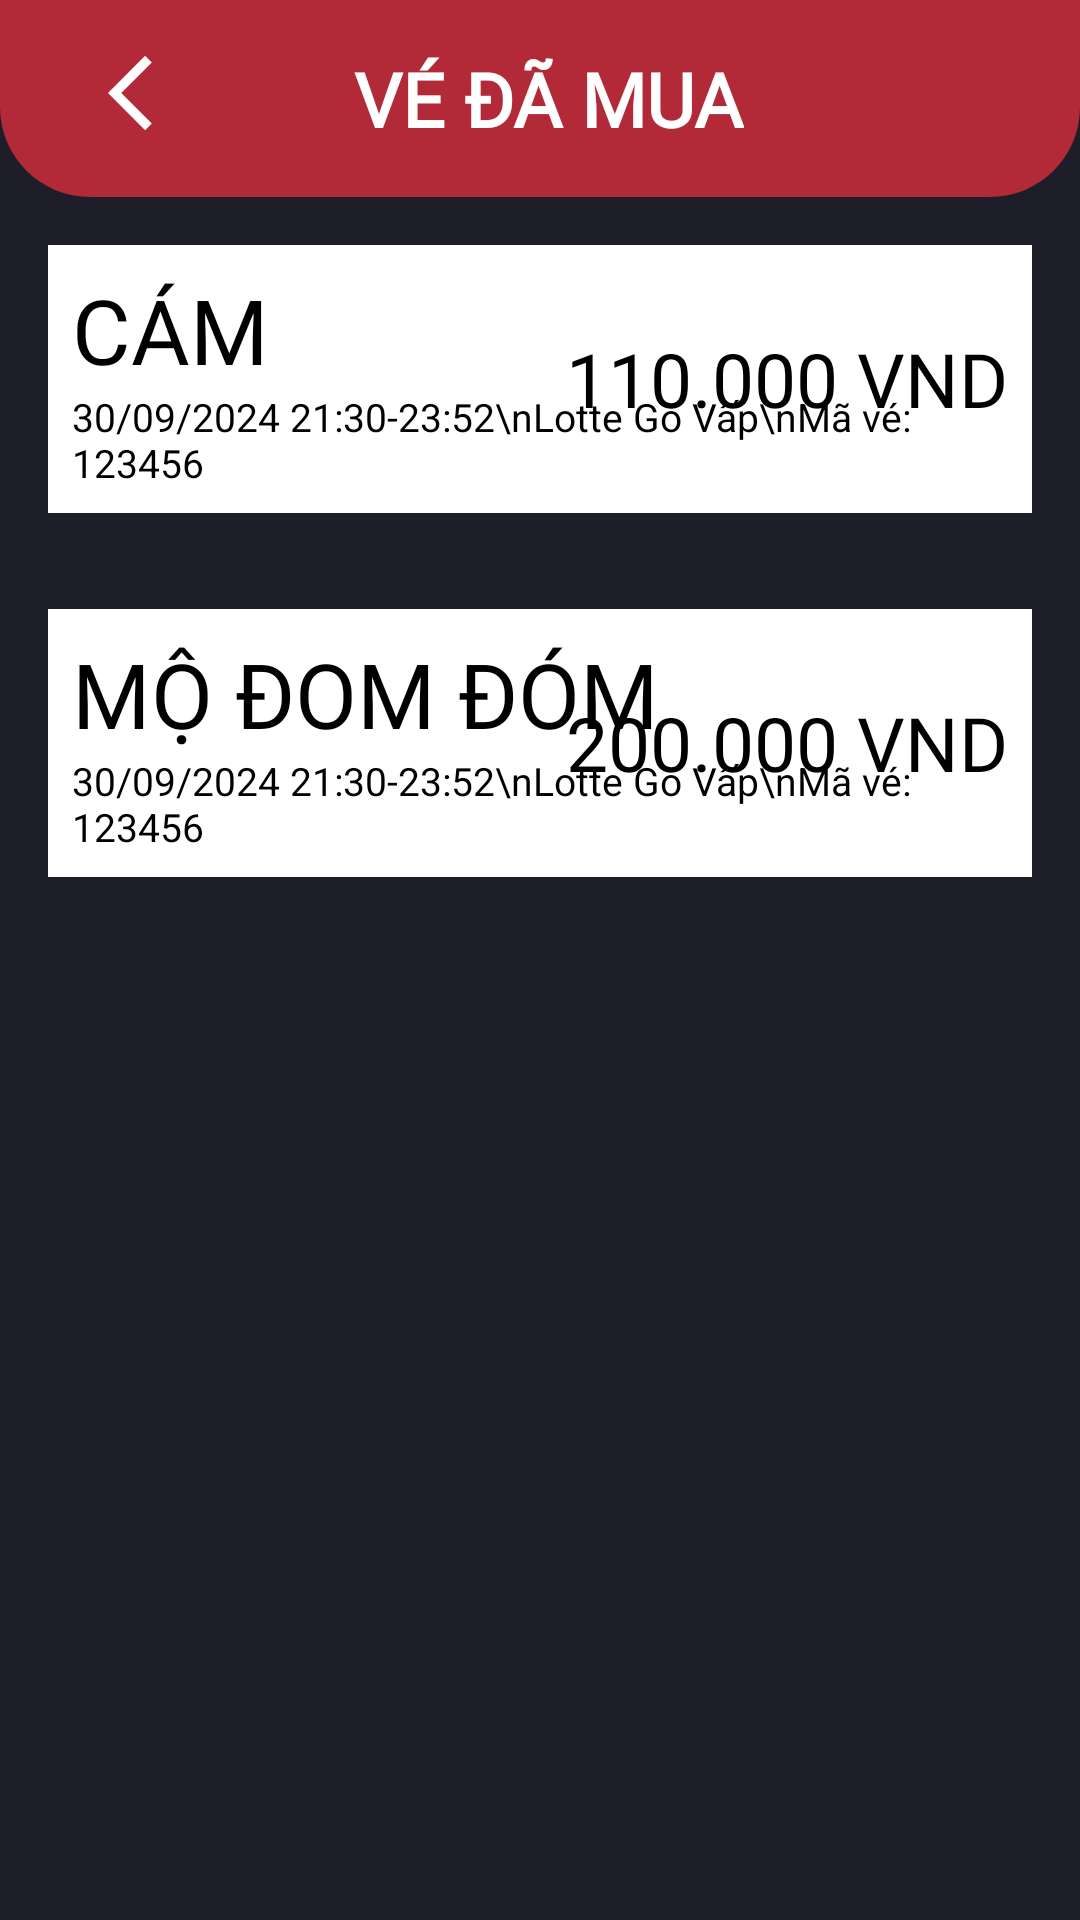

Named icons in this screenshot (1080px×1920px) and their bounding boxes, (x1, y1, x2, y2):
back arrow: (108, 56, 152, 130)
